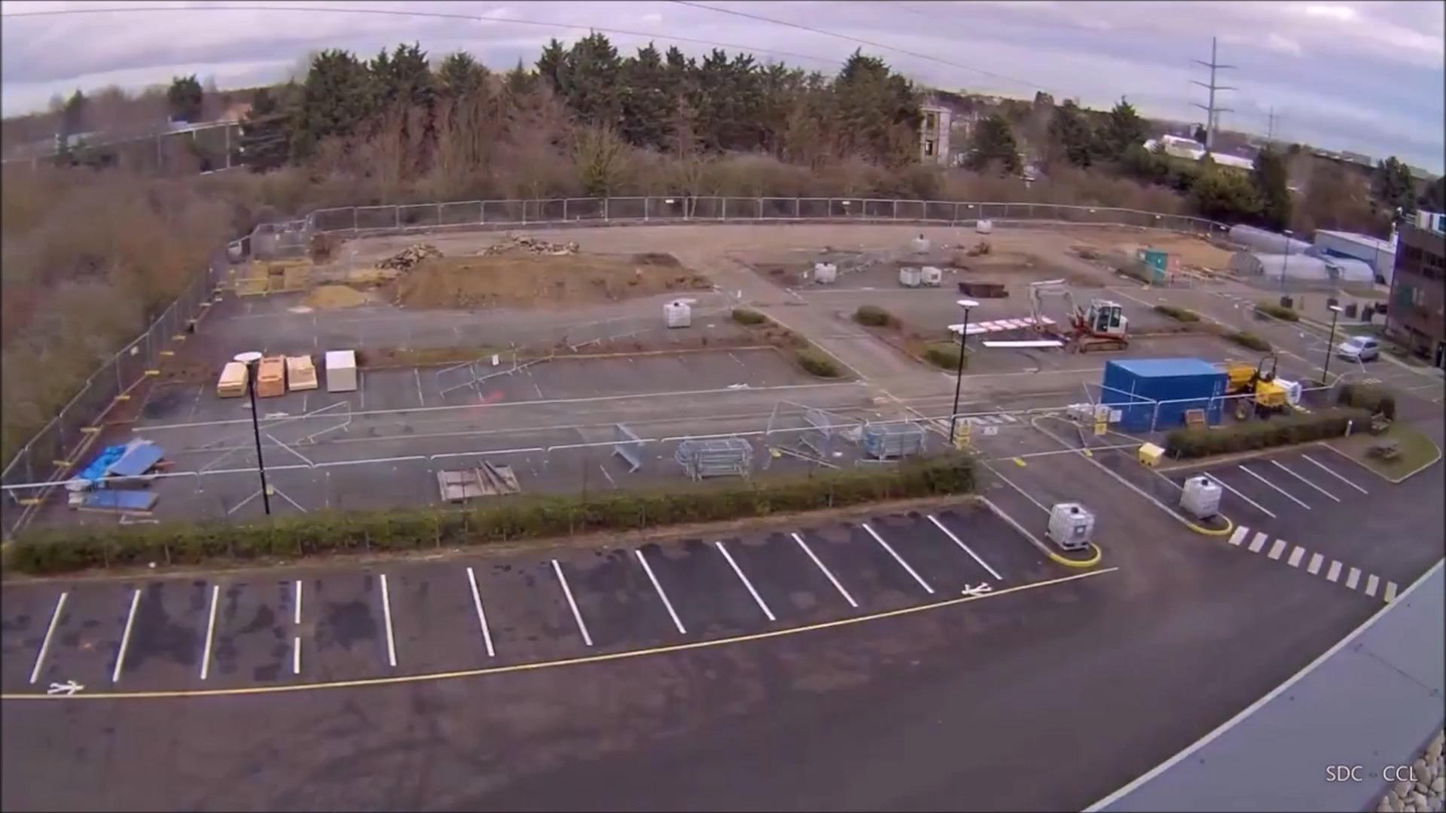free: (1196, 453, 1327, 538), (550, 549, 681, 634), (801, 517, 932, 602), (365, 572, 496, 657), (24, 603, 155, 688), (1255, 427, 1385, 512), (633, 540, 763, 625), (725, 533, 855, 618), (462, 556, 592, 641), (194, 593, 324, 678), (109, 609, 239, 694), (925, 498, 1056, 582), (866, 513, 996, 597), (295, 576, 425, 660)
